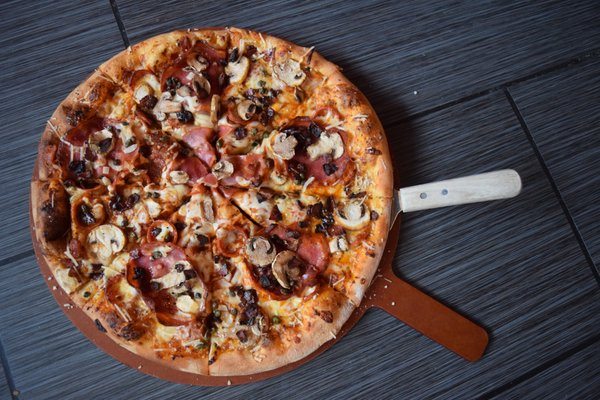curry: (2, 0, 597, 393)
sandwich: (28, 25, 394, 376)
